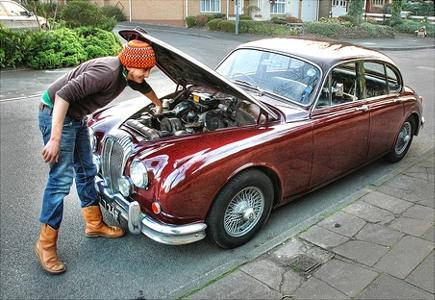person: (35, 40, 164, 278)
